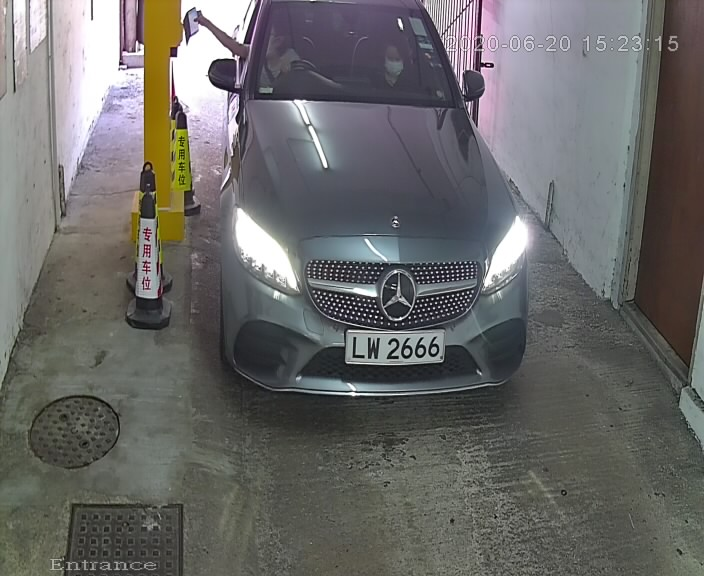privatecar: (210, 3, 542, 416)
